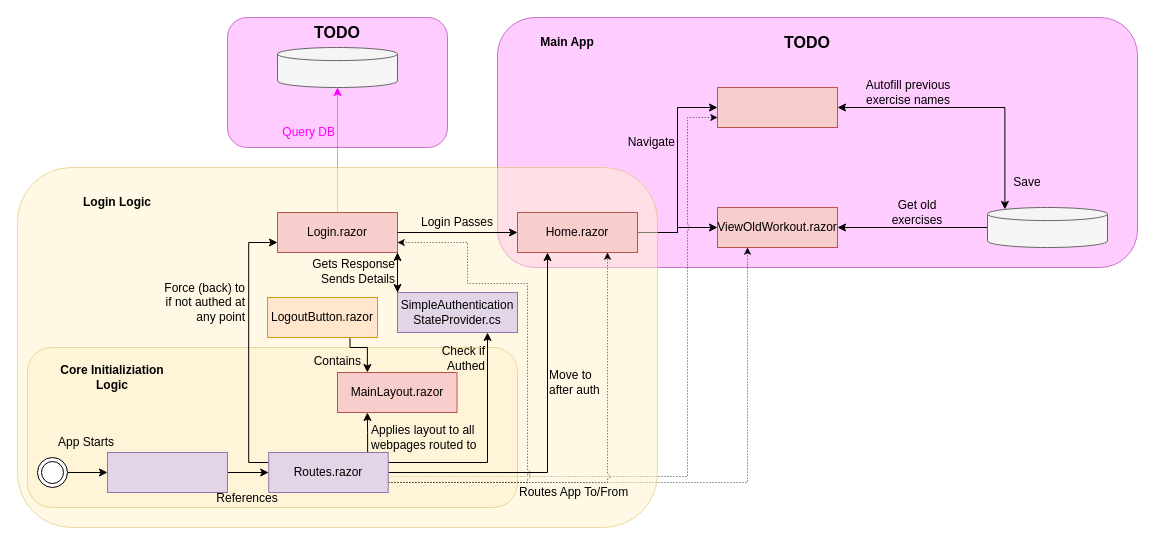
Image size: 1155x545. Some labels were removed from this diagram. The box of each missing label's shape, as (x1, y1, x2, y2) in pixels:
App.razor: (106, 452, 228, 492)
Exercises: (986, 206, 1108, 248)
LoginDetails: (276, 46, 398, 88)
NewWorkout.razor: (716, 86, 838, 128)
